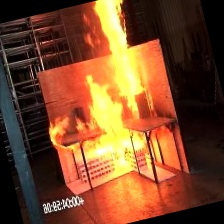fire: (17, 0, 179, 195)
